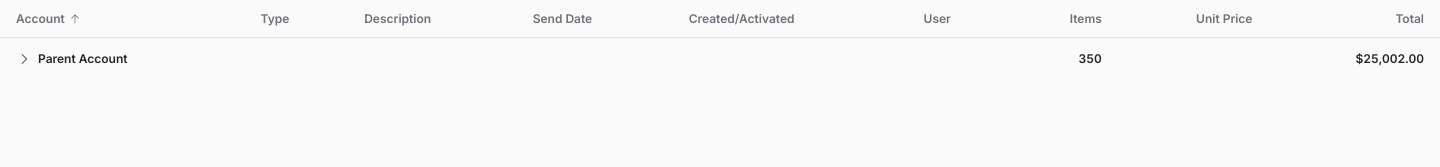
BillingTreeTable › expand/collapse toggling › clicking an expanded parent row collapses it
Click the text "Parent Account".
click(72, 59)  # box [17,51,128,66]
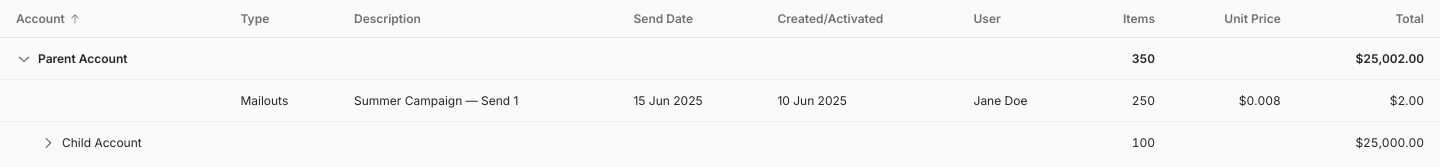
Now the text "Child Account" is shown, box [41,135,142,150]
Click the text "Parent Account".
click(72, 59)  # box [17,51,128,66]
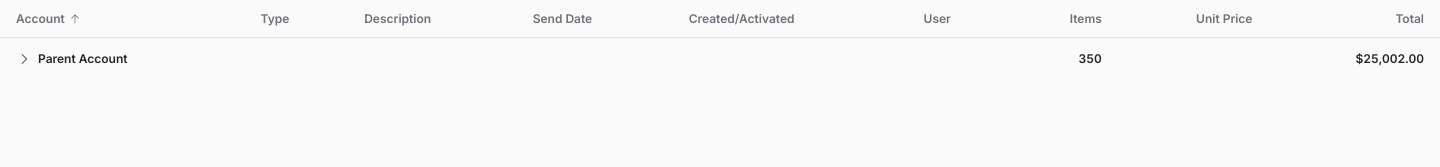
Now the text "Child Account" is gone
